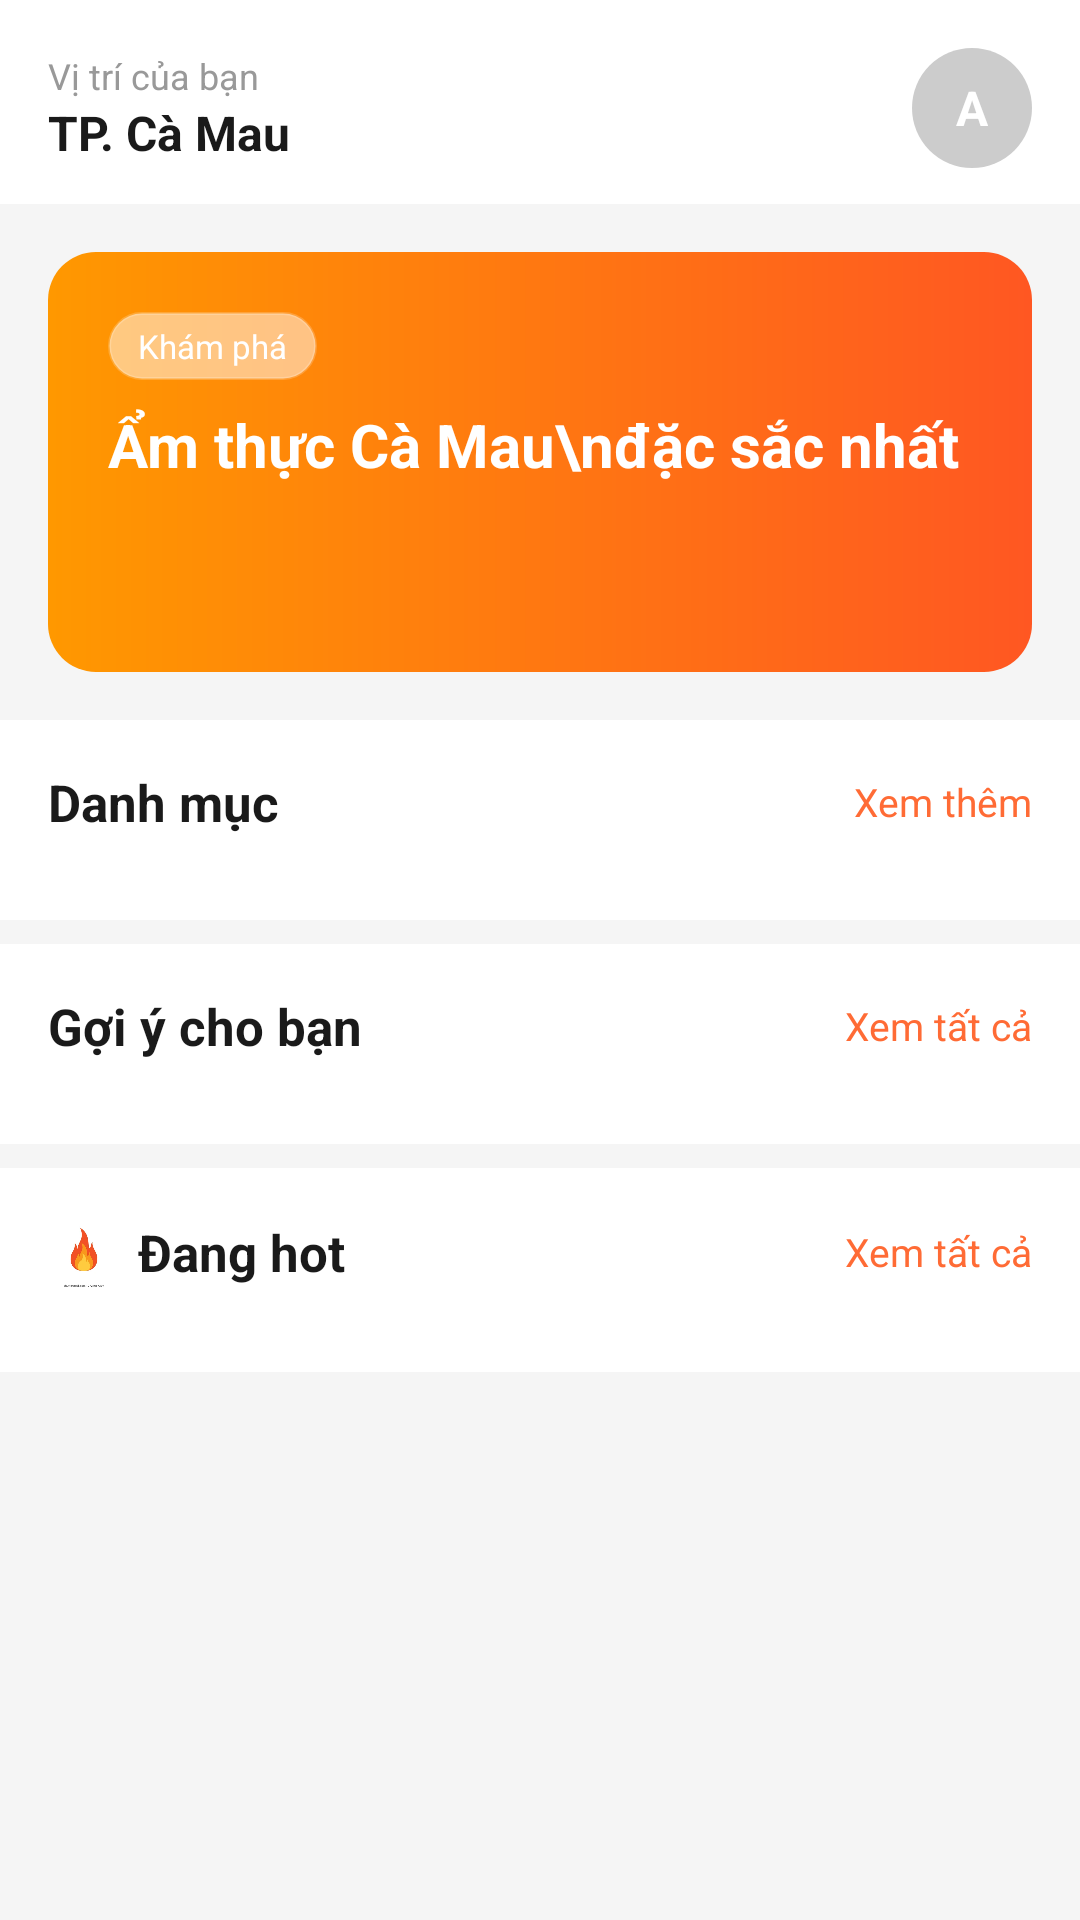

Point at icon controls on the screen. Image size 1080×1920, points as [x,y].
fire: [84,1257]
